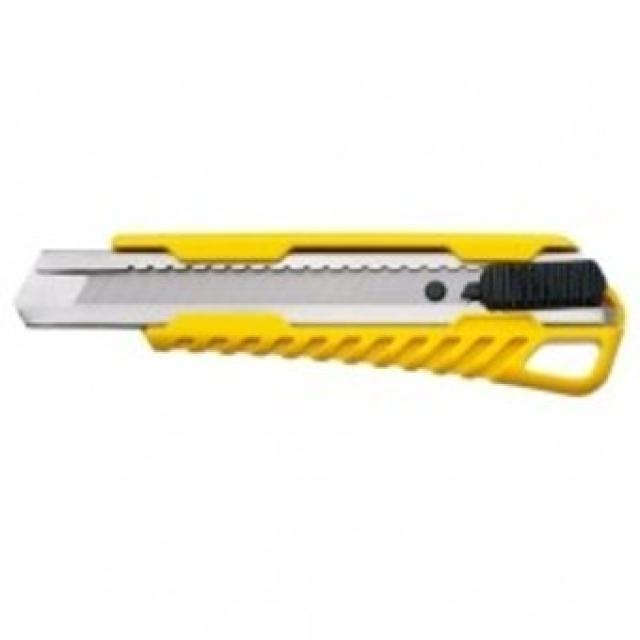cutter: (5, 184, 625, 415)
